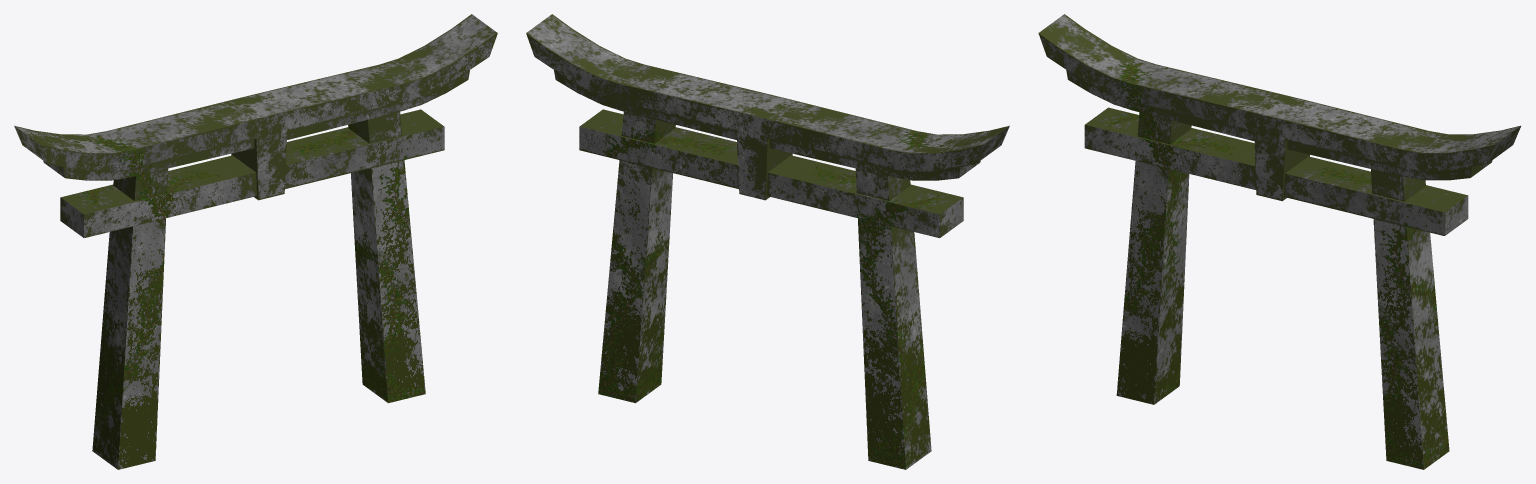
The model's file is torii_gate.glb.
3 views of the same model, side by side, from view 1: azimuth 30°, elevation 25°; view 2: azimuth 150°, elevation 25°; view 3: azimuth 330°, elevation 25° (orthographic).
Parts seen in each view (by area): view 1: Object_2; view 2: Object_2; view 3: Object_2.
Boxes of the visible parts, bbox=[...] form: Object_2: bbox=[14, 14, 497, 469]; Object_2: bbox=[526, 14, 1009, 469]; Object_2: bbox=[1038, 14, 1520, 469].
Size of the model in its own units: 6.6 by 4.74 by 0.6525.
1 material, 1 textured.
